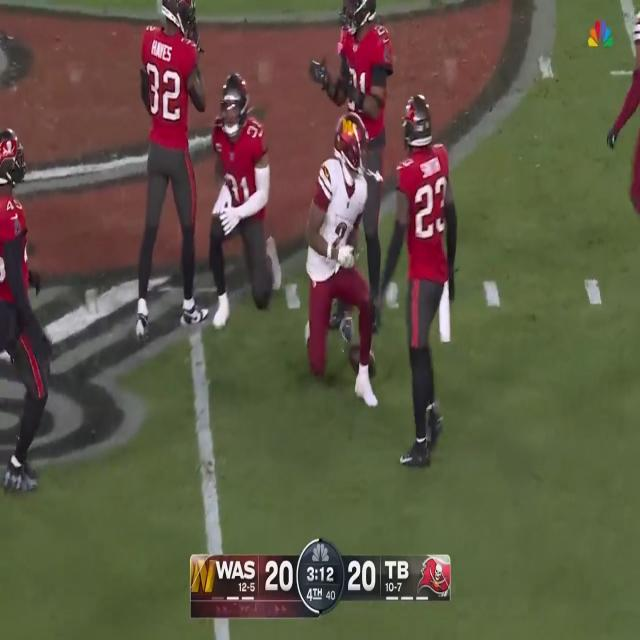Player: (394, 96, 460, 499), (134, 0, 206, 337), (311, 115, 381, 412), (0, 112, 49, 516), (204, 67, 275, 318), (335, 0, 390, 116)
